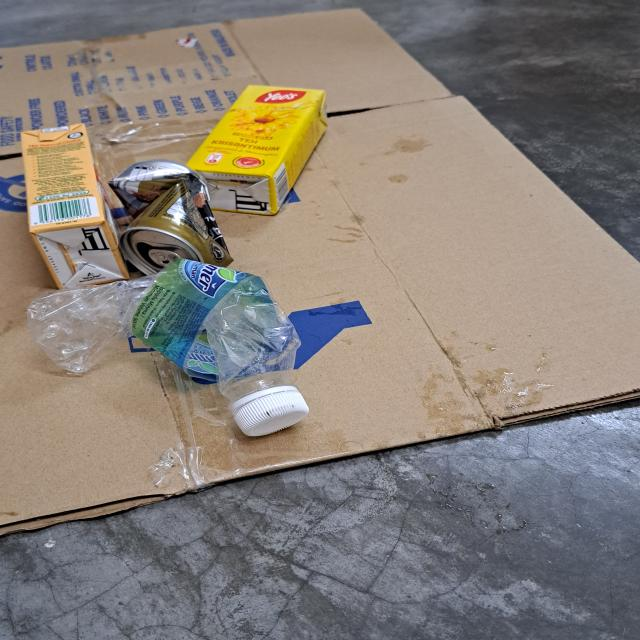can: (108, 160, 235, 274)
cardboard: (0, 3, 640, 537)
drink carton: (186, 85, 330, 217), (20, 124, 132, 289)
plastic bottle: (28, 260, 301, 402)
plastic bottle cap: (232, 392, 310, 438)
pop tab: (149, 249, 183, 265)
